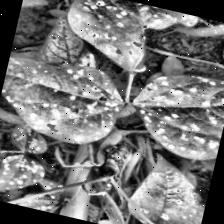Bean Rust: (0, 44, 132, 149), (58, 0, 199, 84), (128, 57, 224, 166), (123, 152, 213, 224), (0, 150, 49, 205), (8, 122, 52, 154)
